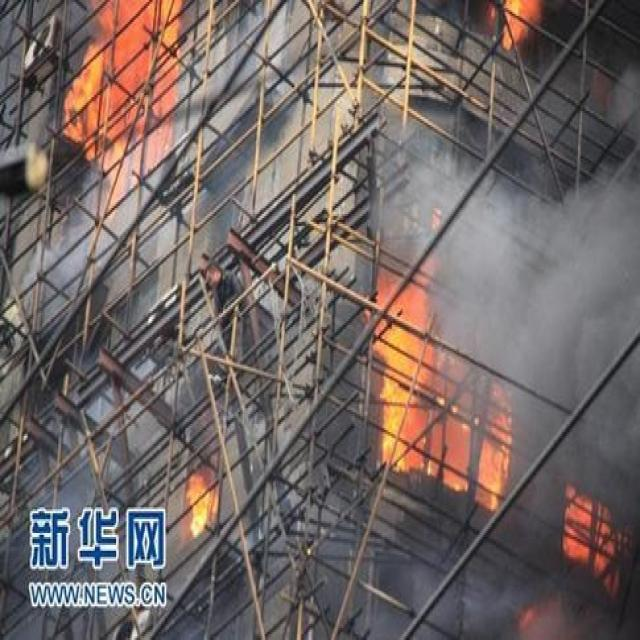fire: (52, 0, 241, 210), (376, 317, 517, 522), (162, 440, 235, 571)
smoke: (434, 178, 640, 471)
